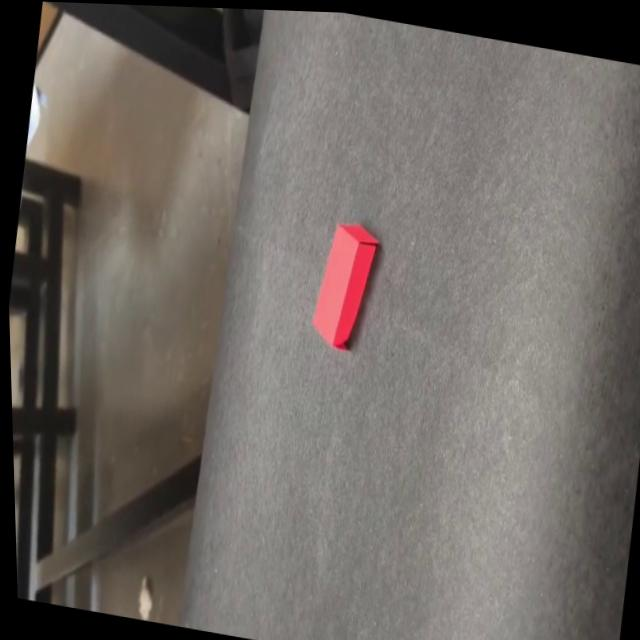red block: (304, 214, 384, 355)
